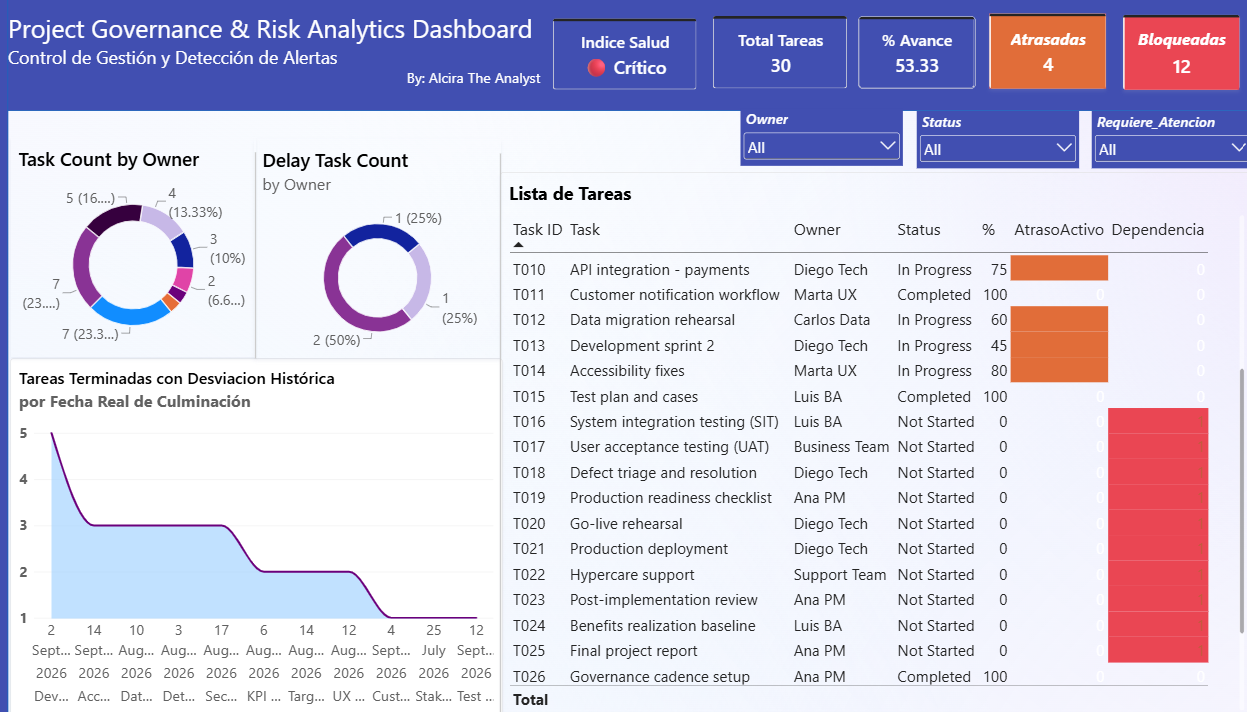

Layout of this report page (visuals, bound fields, positions):
{"tool":"powerbi","page":{"name":"Page 1","canvas":[1920,1080],"ordinal":0},"visuals":[{"type":"areaChart","title":"Tareas Terminadas con Desviacion Histórica ","fields":{"Category":["Audited_Tracker.Task","Audited_Tracker.Actual End.Variation.Date Hierarchy.Year","Audited_Tracker.Actual End.Variation.Date Hierarchy.Month","Audited_Tracker.Actual End.Variation.Date Hierarchy.Day"],"Y":["_Medidas.Desviacion Dias"]},"box":[63.4,541.1,734,540],"z":0},{"type":"shape","box":[0,2,1920.1,169.8],"z":1000},{"type":"shape","box":[0,0,60,1078],"z":2000},{"type":"cardVisual","fields":{"Data":["_Medidas.% Avance Promedio"]},"box":[1328,29.9,175.7,108.6],"z":3000},{"type":"cardVisual","fields":{"Data":["_Medidas.Tareas Atrasadas"]},"box":[1524.5,26.1,174,112],"z":4000},{"type":"donutChart","title":"Delay Task Count","fields":{"Category":["Audited_Tracker.Owner"],"Y":["_Medidas.Tareas Atrasadas"]},"box":[428,212,368.1,327.6],"z":5000},{"type":"tableEx","title":"Lista de Tareas","fields":{"Values":["Audited_Tracker.Task ID","Audited_Tracker.Task","Audited_Tracker.Owner","Audited_Tracker.Status","Audited_Tracker.Progress %","Audited_Tracker.Flag_Regla1_AtrasoActivo","Audited_Tracker.Flag_Regla3_BloqueoDependencia"]},"box":[794.9,263.1,1125.2,817.3],"z":6000},{"type":"cardVisual","fields":{"Data":["_Medidas.Total Tareas"]},"box":[1112,29.9,200,108],"z":7000},{"type":"textbox","box":[59.7,22.4,794.9,115.7],"z":8000},{"type":"cardVisual","fields":{"Data":["_Medidas.Indice Salud"]},"box":[874,33.9,214,106],"z":9000},{"type":"donutChart","title":"Task Count by Owner","fields":{"Category":["Audited_Tracker.Owner"],"Y":["CountNonNull(Audited_Tracker.Task)"]},"box":[63.4,210.9,366.3,327.6],"z":10000},{"type":"slicer","fields":{"Values":["Audited_Tracker.Owner"]},"box":[1153.2,167.9,242.6,85.8],"z":11000},{"type":"cardVisual","fields":{"Data":["_Medidas.Tareas Blocked"]},"box":[1725,28.3,174,112],"z":12000},{"type":"slicer","fields":{"Values":["Audited_Tracker.Status"]},"box":[1416.2,171.7,242.6,85.8],"z":13000},{"type":"shape","box":[406.8,233.2,44.8,307.9],"z":14000},{"type":"shape","box":[772.5,235.1,44.8,843.4],"z":15000},{"type":"slicer","fields":{"Values":["Audited_Tracker.Requiere_Atencion"]},"box":[1677.5,171.7,242.6,85.8],"z":16000}]}

Visuals, with their boxes in screenshot pixels (x1, y1, x2, y2), scaled from the page's 1920x1080 canvas onto the 1247x712 screenshot:
"Tareas Terminadas con Desviacion Histórica " areaChart: box(41, 357, 518, 711)
shape: box(0, 1, 1246, 113)
shape: box(0, 0, 39, 711)
cardVisual - _Medidas.% Avance Promedio: box(863, 20, 977, 91)
cardVisual - _Medidas.Tareas Atrasadas: box(990, 17, 1103, 91)
"Delay Task Count" donutChart: box(278, 140, 517, 356)
"Lista de Tareas" tableEx: box(516, 173, 1246, 711)
cardVisual - _Medidas.Total Tareas: box(722, 20, 852, 91)
textbox: box(39, 15, 555, 91)
cardVisual - _Medidas.Indice Salud: box(568, 22, 707, 92)
"Task Count by Owner" donutChart: box(41, 139, 279, 355)
slicer - Audited_Tracker.Owner: box(749, 111, 907, 167)
cardVisual - _Medidas.Tareas Blocked: box(1120, 19, 1233, 92)
slicer - Audited_Tracker.Status: box(920, 113, 1077, 170)
shape: box(264, 154, 293, 357)
shape: box(502, 155, 531, 711)
slicer - Audited_Tracker.Requiere_Atencion: box(1090, 113, 1246, 170)
